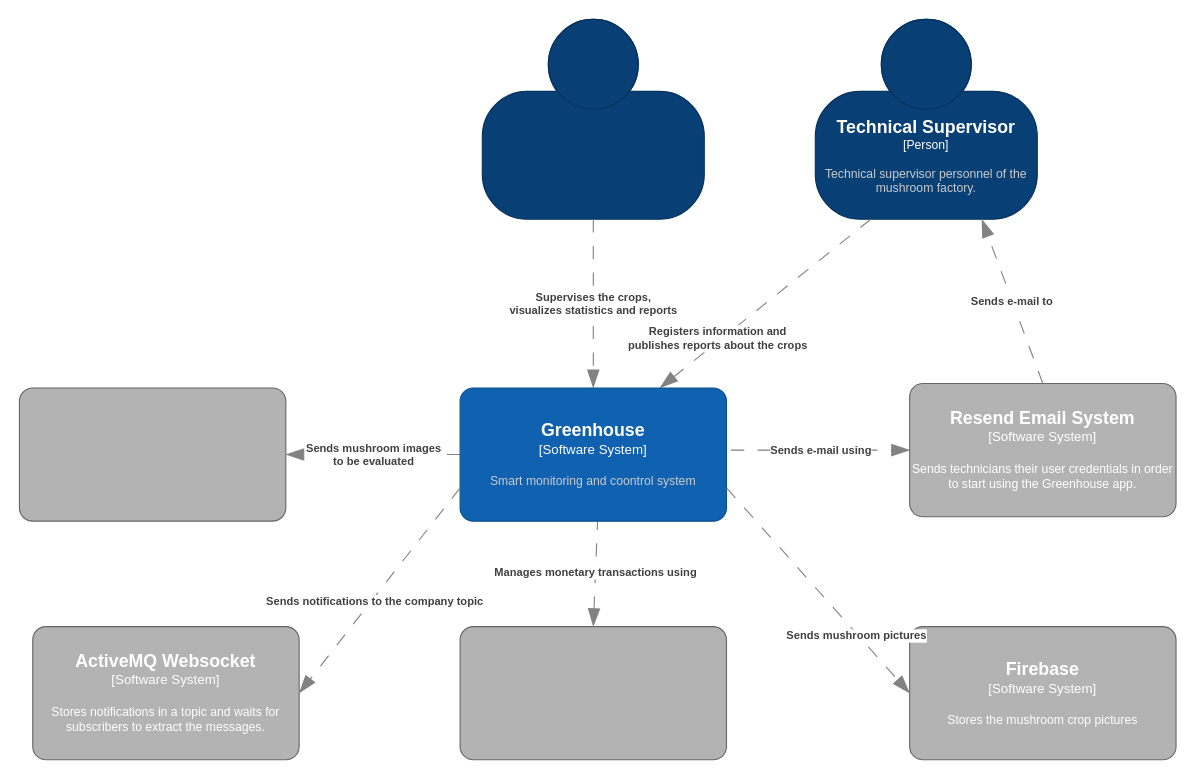
Some shapes in this 1195 by 779 pixel diagram are drawn without their labels. Each missing label, with the box of its shape:
Administrator [Person] Administrator of the mushroom factory.: (481, 18, 704, 219)
MercadoPago [Software System]: (459, 625, 726, 760)
Ultralytics [Software System] Analyzes the quality of the mushroom images.: (18, 387, 286, 521)
